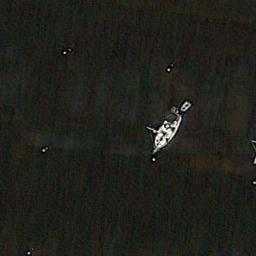boat: (146, 104, 183, 155), (178, 97, 192, 115)
